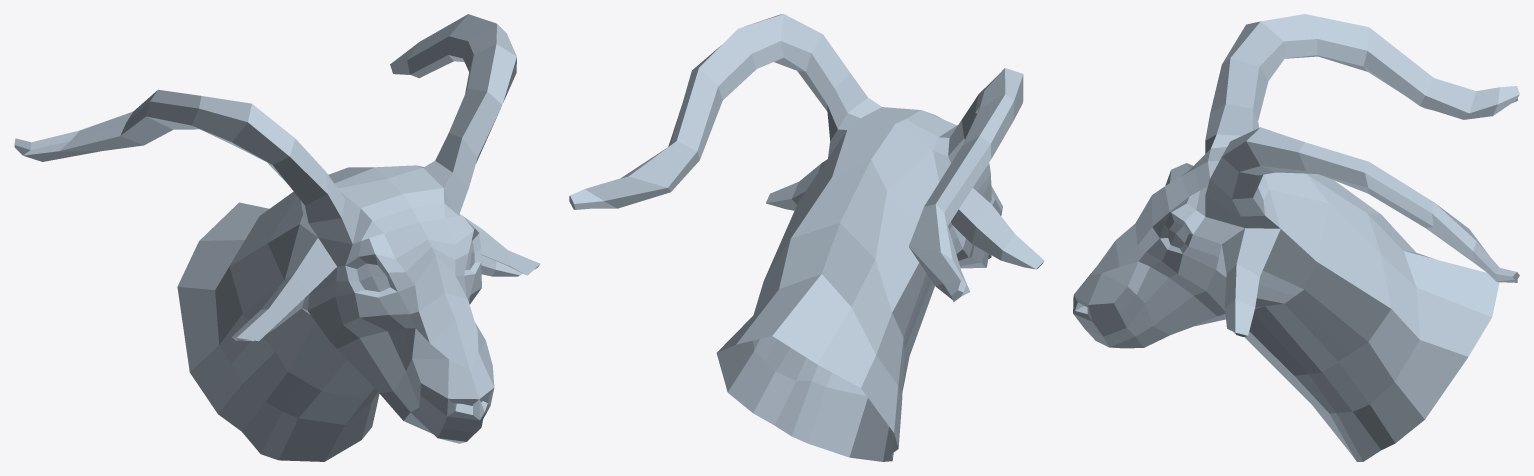
File: goat.fbx
The picture shows the model from 3 angles, left to right: view 1: azimuth 30°, elevation 25°; view 2: azimuth 150°, elevation 25°; view 3: azimuth 270°, elevation 25°; orthographic projection. The views are drawn at different scales.
Parts seen in each view (by area): view 1: Plane.002; view 2: Plane.002; view 3: Plane.002.
Part boxes in pixels (x1,y1,x2,y2): Plane.002: (14, 14, 540, 461); Plane.002: (569, 14, 1044, 461); Plane.002: (1073, 14, 1519, 461).
Bounding box in the file's own units: 486 × 452 × 485.
